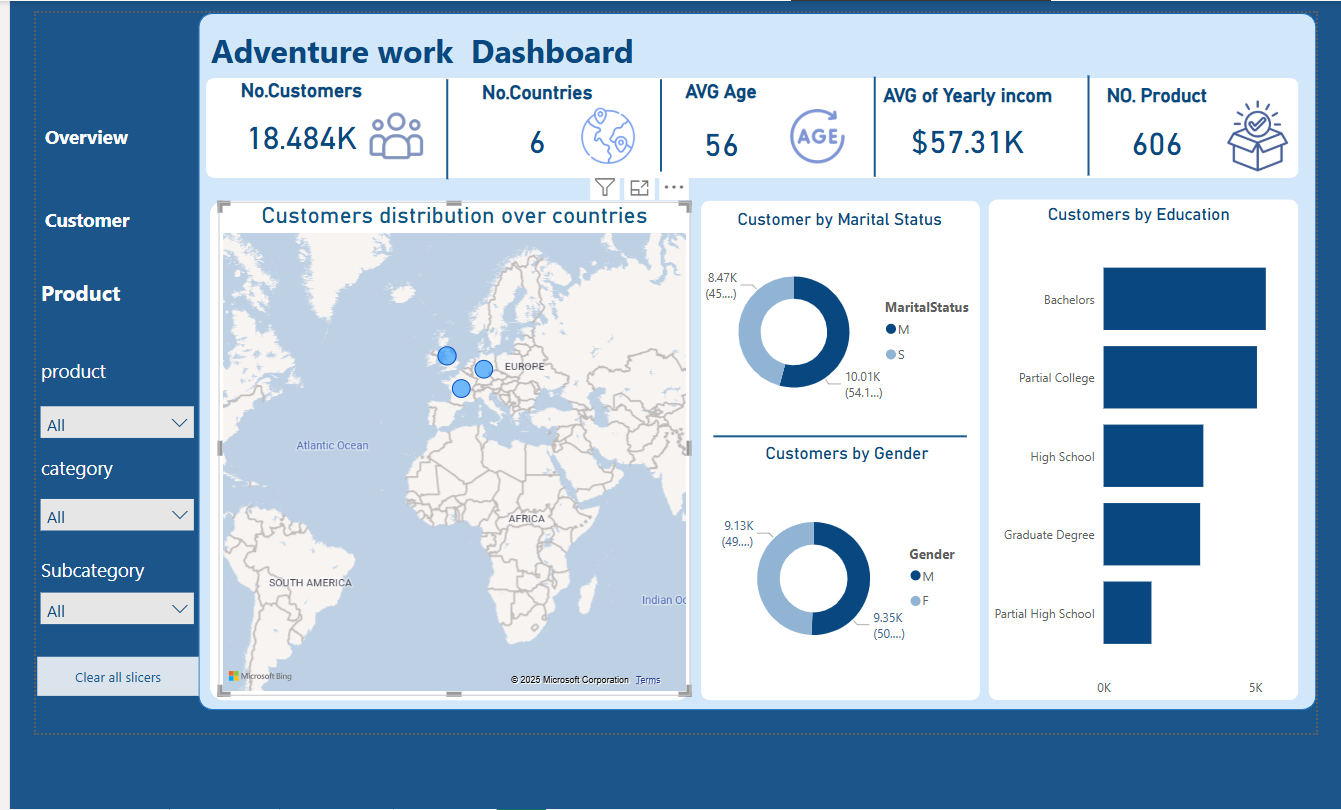

What the dashboard file says about the page in this screenshot:
{"tool":"powerbi","page":{"name":"customer ","canvas":[1280,720],"ordinal":1},"visuals":[{"type":"shape","box":[162.6,0,1117.7,697],"z":0},{"type":"textbox","box":[170,11.1,466.7,53.3],"z":1000},{"type":"shape","box":[952.2,186.7,310,501.1],"z":2000},{"type":"shape","box":[664.4,187.8,278.9,500],"z":3000},{"type":"textbox","box":[4.3,106.4,108.5,43.6],"z":4000},{"type":"textbox","box":[3.2,188.3,144.7,42.6],"z":5000},{"type":"textbox","box":[0,259.6,131.9,40.4],"z":6000},{"type":"slicer","title":"Category ","fields":{"Values":["DimProductCategory.EnglishProductCategoryName"]},"box":[0,481.8,162.6,57.5],"z":7000},{"type":"actionButton","box":[0,98.9,154.3,58.5],"z":8000},{"type":"actionButton","box":[0,180.9,154.3,58.5],"z":9000},{"type":"actionButton","box":[0,256.4,154.3,58.5],"z":10000},{"type":"textbox","box":[0,340.4,131.9,37.2],"z":11000},{"type":"textbox","box":[0,437.3,131.9,36.1],"z":12000},{"type":"textbox","box":[0,538.8,131.9,36.1],"z":13000},{"type":"slicer","title":"SubCategory ","fields":{"Values":["DimProductSubcategory.FrenchProductSubcategoryName"]},"box":[0,574.7,162.6,51.4],"z":14000},{"type":"slicer","title":"product ","fields":{"Values":["DimProduct.EnglishProductName"]},"box":[0,388.9,162.3,45.1],"z":15000},{"type":"shape","box":[170,65,1092.5,100],"z":16000},{"type":"card","title":"No.Countries ","fields":{"Values":["Count(DimGeography.EnglishCountryRegionName)"]},"box":[422.5,68.8,157.5,95],"z":17000},{"type":"shape","box":[173.6,187.1,480.6,500.1],"z":18000},{"type":"card","title":"AVG Age ","fields":{"Values":["Avg(DimCustomer.Age)"]},"box":[591.2,67.5,187.5,102.5],"z":19000},{"type":"card","title":"NO. Product ","fields":{"Values":["CountNonNull(DimProduct.ProductKey)"]},"box":[1025.6,70.9,191.9,94.2],"z":20000},{"type":"card","title":"No.Customers ","fields":{"Values":["Count(DimCustomer.CustomerKey)"]},"box":[169.8,66.3,190.7,91.9],"z":21000},{"type":"shape","box":[400,66.2,22.5,100],"z":22000},{"type":"shape","box":[613.8,66.2,22.5,100],"z":23000},{"type":"shape","box":[827.5,63.8,22.5,100],"z":24000},{"type":"shape","box":[1041.2,62.5,22.5,100],"z":25000},{"type":"image","box":[1181.4,82.6,81.4,81.4],"z":26000},{"type":"image","box":[328.8,91.2,63.8,63.8],"z":27000},{"type":"clusteredBarChart","title":" Customers by Education","fields":{"Category":["DimCustomer.EnglishEducation"],"Y":["CountNonNull(DimCustomer.CustomerKey)"]},"box":[943.3,191.1,317.8,502.2],"z":28000},{"type":"donutChart","title":" Customer by Marital Status","fields":{"Y":["CountNonNull(DimCustomer.CustomerAlternateKey)"],"Category":["DimCustomer.MaritalStatus"]},"box":[662.2,196.7,282.2,226.7],"z":29000},{"type":"shape","box":[677.8,404.4,253.3,36.7],"z":30000},{"type":"donutChart","title":" Customers by Gender","fields":{"Category":["DimCustomer.Gender"],"Y":["CountNonNull(DimCustomer.CustomerKey)"]},"box":[677.8,430,266.7,252.2],"z":31000},{"type":"card","title":"AVG of Yearly incom ","fields":{"Values":["Avg(DimCustomer.YearlyIncome)"]},"box":[837.2,70.9,188.4,89.5],"z":32000},{"type":"actionButton","box":[1.2,643.2,161.4,39.1],"z":33000},{"type":"image","box":[531.1,90,82.2,65.6],"z":34000},{"type":"image","box":[734.4,91.1,92.2,64.4],"z":35000},{"type":"azureMap","title":"Customers distribution over countries ","fields":{"Category":["DimGeography.EnglishCountryRegionName"],"Size":["CountNonNull(DimCustomer.CustomerKey)"]},"box":[182.2,188.3,472,494],"z":36000}]}

Visuals, with their boxes on the page's 1280x720 design canvas (x1, y1, x2, y2). These are canvas units, not pixel positions in the 1341x810 screenshot, which may show the page scaled, cropped or inside an application window:
shape: crop(163, 0, 1280, 697)
textbox: crop(170, 11, 637, 64)
shape: crop(952, 187, 1262, 688)
shape: crop(664, 188, 943, 688)
textbox: crop(4, 106, 113, 150)
textbox: crop(3, 188, 148, 231)
textbox: crop(0, 260, 132, 300)
"Category " slicer: crop(0, 482, 163, 539)
actionButton: crop(0, 99, 154, 157)
actionButton: crop(0, 181, 154, 239)
actionButton: crop(0, 256, 154, 315)
textbox: crop(0, 340, 132, 378)
textbox: crop(0, 437, 132, 473)
textbox: crop(0, 539, 132, 575)
"SubCategory " slicer: crop(0, 575, 163, 626)
"product " slicer: crop(0, 389, 162, 434)
shape: crop(170, 65, 1262, 165)
"No.Countries " card: crop(422, 69, 580, 164)
shape: crop(174, 187, 654, 687)
"AVG Age " card: crop(591, 68, 779, 170)
"NO. Product " card: crop(1026, 71, 1218, 165)
"No.Customers " card: crop(170, 66, 360, 158)
shape: crop(400, 66, 422, 166)
shape: crop(614, 66, 636, 166)
shape: crop(828, 64, 850, 164)
shape: crop(1041, 62, 1064, 162)
image: crop(1181, 83, 1263, 164)
image: crop(329, 91, 393, 155)
" Customers by Education" clusteredBarChart: crop(943, 191, 1261, 693)
" Customer by Marital Status" donutChart: crop(662, 197, 944, 423)
shape: crop(678, 404, 931, 441)
" Customers by Gender" donutChart: crop(678, 430, 944, 682)
"AVG of Yearly incom " card: crop(837, 71, 1026, 160)
actionButton: crop(1, 643, 163, 682)
image: crop(531, 90, 613, 156)
image: crop(734, 91, 827, 156)
"Customers distribution over countries " azureMap: crop(182, 188, 654, 682)
